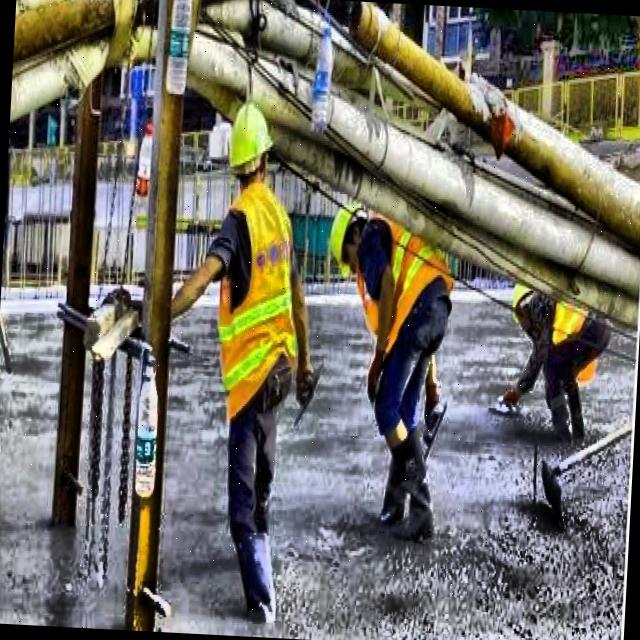helmet: (226, 99, 278, 201), (322, 200, 371, 278), (504, 270, 538, 328)
